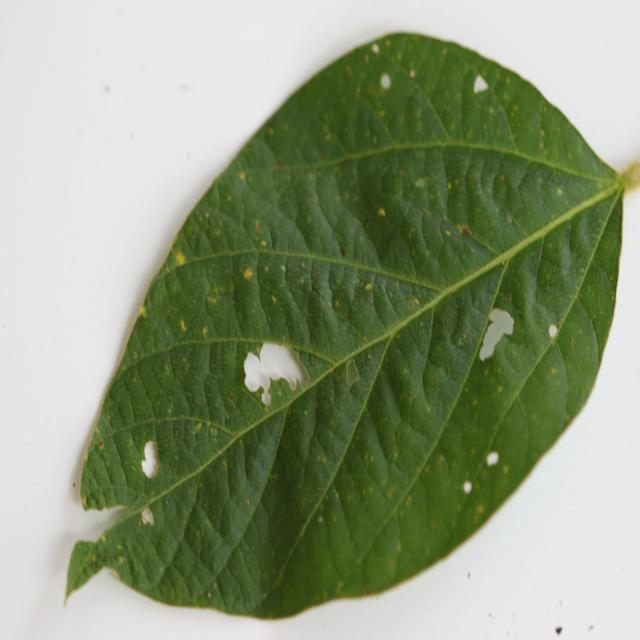Soybean: (54, 31, 640, 623)
downey_mildew: (347, 176, 609, 586), (83, 341, 293, 608), (288, 226, 419, 502), (442, 49, 611, 180), (224, 179, 340, 362), (431, 232, 539, 422), (262, 419, 374, 598), (525, 181, 614, 395), (164, 171, 291, 307), (255, 91, 386, 208), (448, 373, 539, 525), (296, 180, 383, 334), (447, 150, 566, 255), (345, 55, 448, 154), (173, 487, 252, 609), (102, 347, 236, 416), (380, 293, 448, 427), (207, 333, 276, 465), (331, 431, 397, 565), (355, 126, 428, 246), (393, 204, 499, 285), (354, 139, 602, 173), (515, 341, 574, 474), (228, 400, 283, 525), (550, 301, 602, 427), (148, 333, 333, 365), (530, 95, 602, 177), (105, 413, 242, 456), (158, 257, 247, 323), (425, 186, 493, 268), (80, 412, 138, 508), (153, 247, 315, 281), (307, 396, 361, 494), (273, 249, 426, 283), (458, 66, 514, 149), (275, 146, 449, 172), (232, 246, 276, 344), (358, 509, 402, 596), (442, 148, 485, 236), (577, 262, 616, 341), (514, 164, 556, 234), (524, 223, 552, 328), (345, 283, 387, 352), (150, 507, 184, 570)
